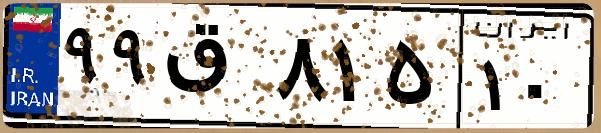0: (525, 38, 570, 115)
1: (330, 28, 385, 110), (475, 38, 525, 113)
5: (385, 28, 445, 110)
8: (270, 28, 330, 110)
9: (57, 26, 110, 100), (110, 28, 158, 98)
ق: (158, 20, 270, 120)
